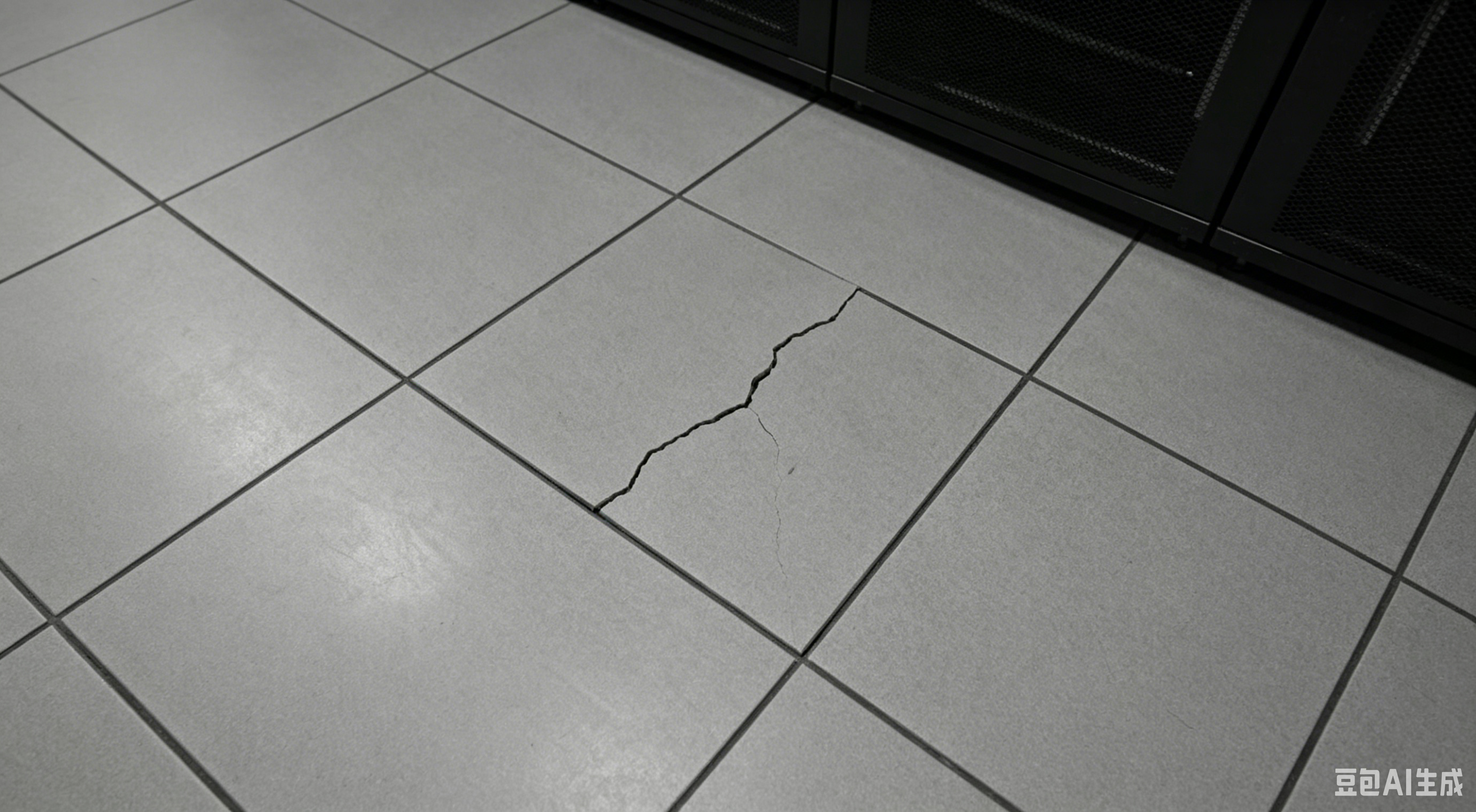floor_defect: (748, 413, 801, 603), (789, 287, 861, 340), (689, 384, 762, 430), (587, 465, 650, 515), (630, 427, 712, 462), (755, 330, 792, 391)
